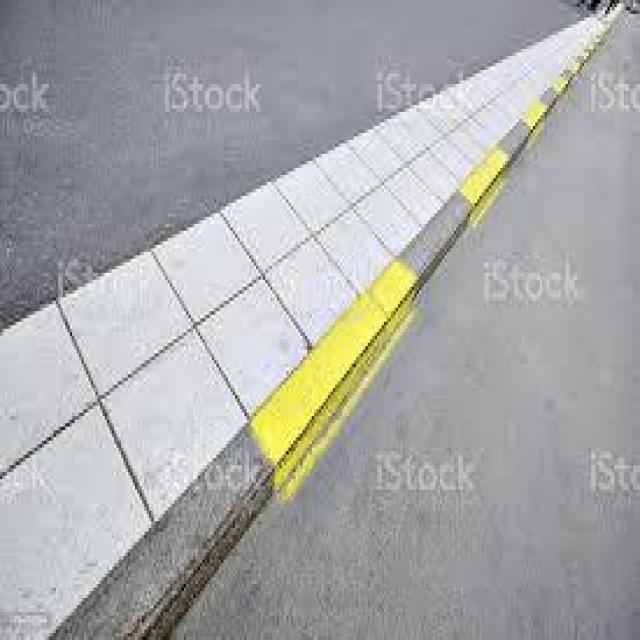bump: (87, 247, 438, 640), (376, 127, 545, 300)
